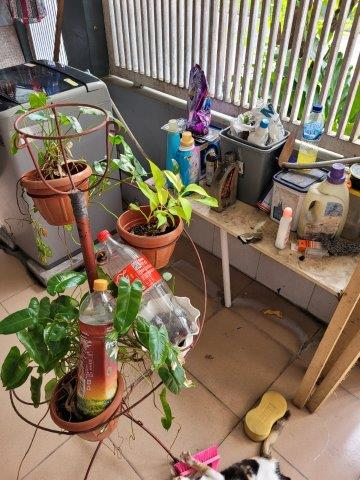botolplastik: (97, 227, 196, 346), (79, 282, 120, 407), (299, 106, 324, 167)
